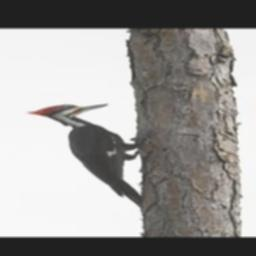Woodpecker: (24, 104, 141, 210)
